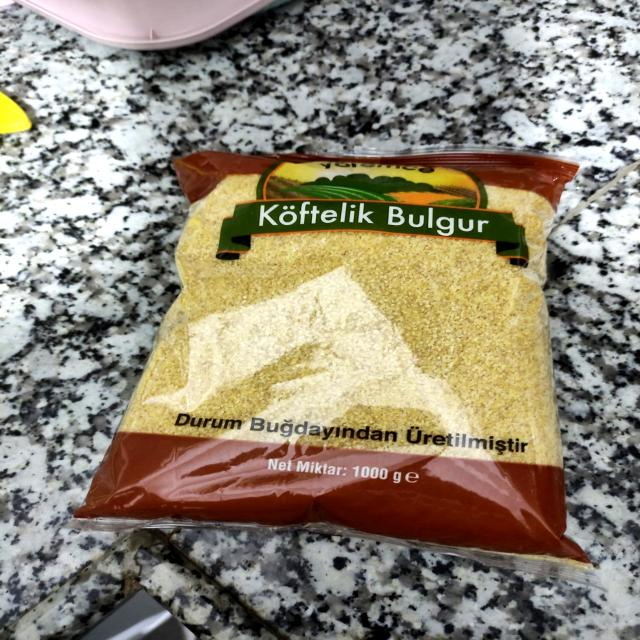bulgur: (110, 135, 594, 549)
